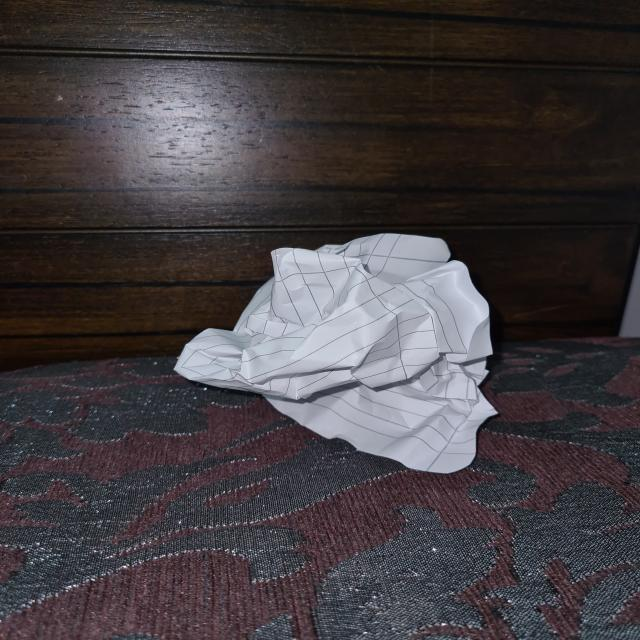Paper: (173, 228, 492, 468)
